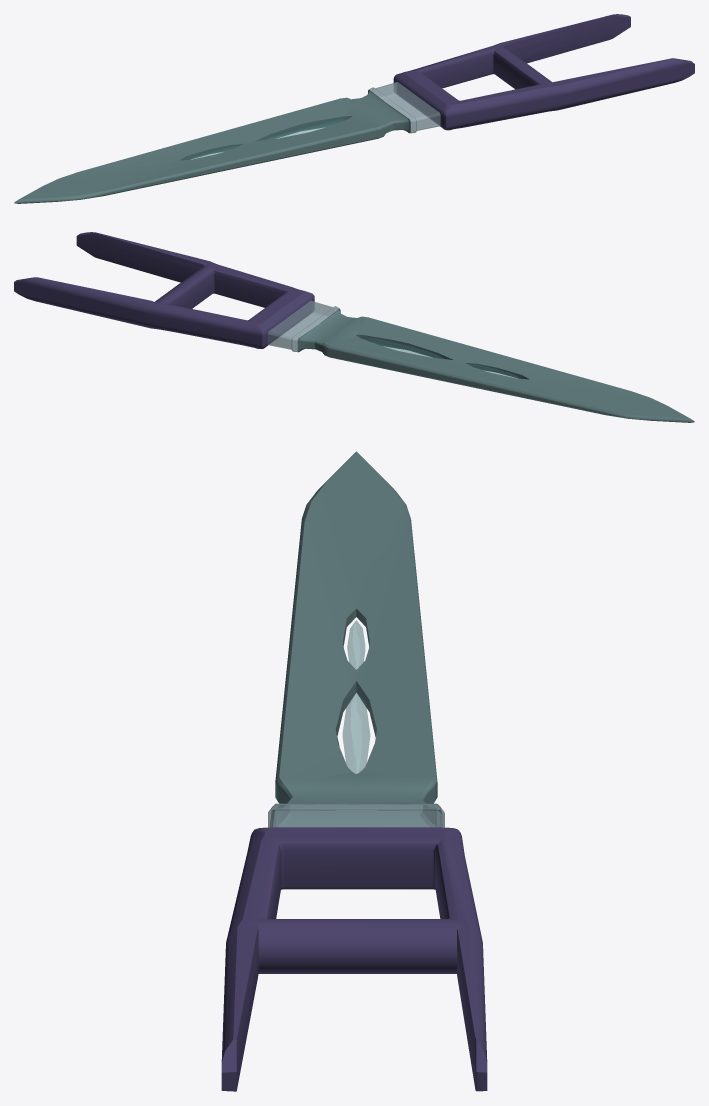
File: Katar_Single.fbx
The picture shows the model from 3 angles, top to bottom: view 1: azimuth 30°, elevation 25°; view 2: azimuth 150°, elevation 25°; view 3: azimuth 270°, elevation 25°; orthographic projection. The views are drawn at different scales.
Parts seen in each view (by area): view 1: polySurface2, polySurface1, pCylinder4; view 2: polySurface2, polySurface1, pCylinder4; view 3: polySurface2, polySurface1, pCylinder4.
Boxes of the visible parts, box(x1,y1,x2,y2) form: polySurface2: box(14, 82, 440, 203); polySurface1: box(393, 14, 694, 130); pCylinder4: box(265, 119, 346, 139); polySurface2: box(267, 301, 694, 422); polySurface1: box(14, 232, 314, 348); pCylinder4: box(362, 338, 443, 358); polySurface2: box(268, 451, 444, 827); polySurface1: box(221, 827, 487, 1091); pCylinder4: box(342, 691, 370, 773).
Size of the model in its own units: 57.82 by 2.1 by 10.27.
